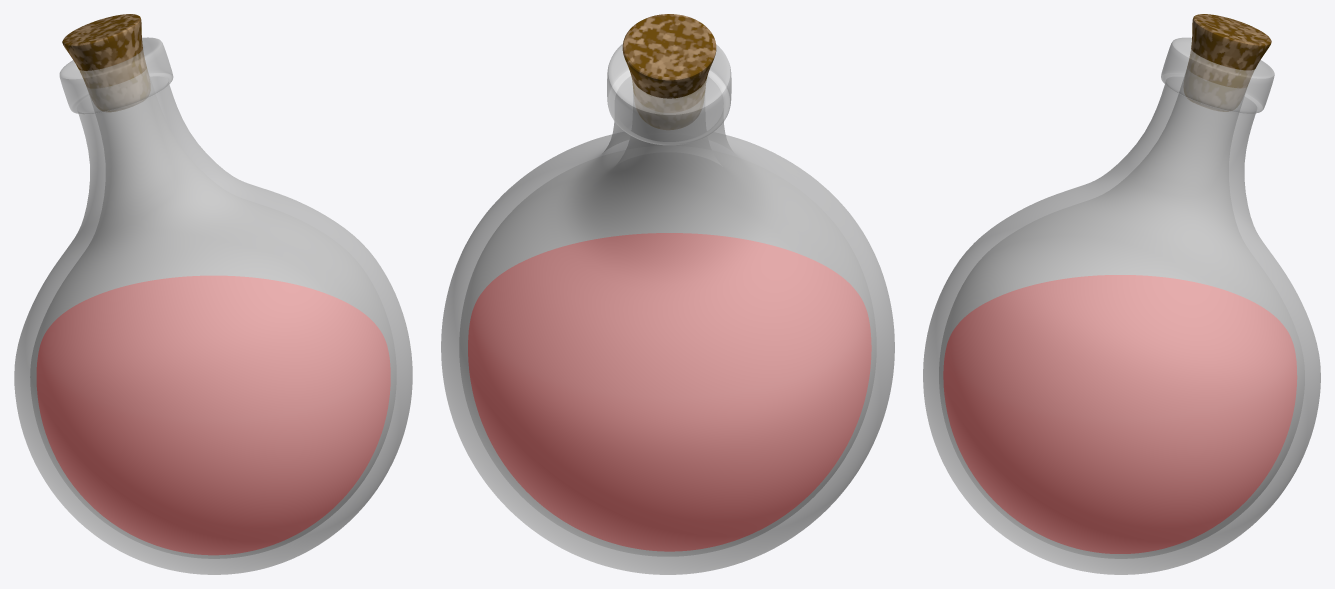
Rendered from health.fbx.
3 renders of one model, left to right at view 1: azimuth 30°, elevation 25°; view 2: azimuth 150°, elevation 25°; view 3: azimuth 270°, elevation 25°, orthographic. The views are drawn at different scales.
Visible parts, largest first — view 1: bottle; view 2: bottle; view 3: bottle.
Part boxes in pixels (x1=…): bottle: x1=14, y1=14, x2=412, y2=574; bottle: x1=441, y1=14, x2=894, y2=574; bottle: x1=923, y1=14, x2=1320, y2=574.
Bounding box in the file's own units: 169 × 240 × 169.
3 materials, 1 textured.
